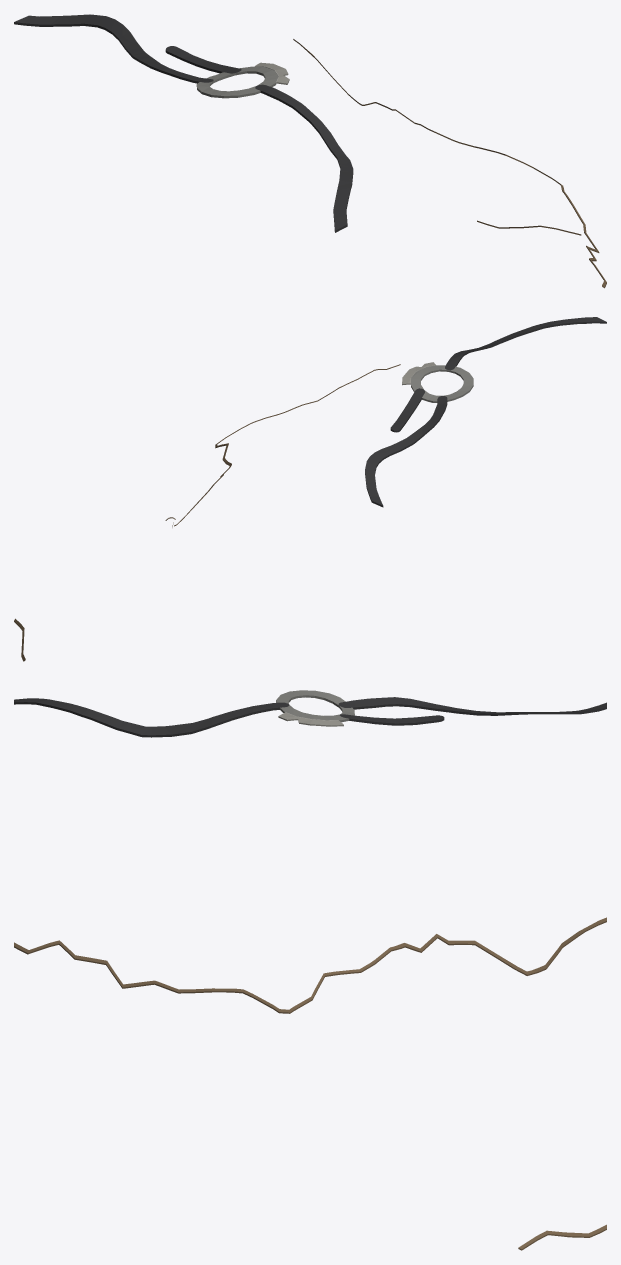
3 renders of one model, top to bottom at view 1: azimuth 30°, elevation 25°; view 2: azimuth 150°, elevation 25°; view 3: azimuth 270°, elevation 25°, orthographic. The views are drawn at different scales.
Bounding box in the file's own units: 288 × 188 × 292.
